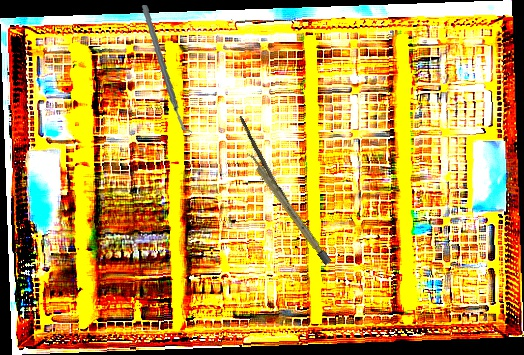Chopper: (128, 4, 205, 134)
Scalpel Handle: (245, 150, 332, 266)
Surgical Spoon: (236, 115, 309, 241)
